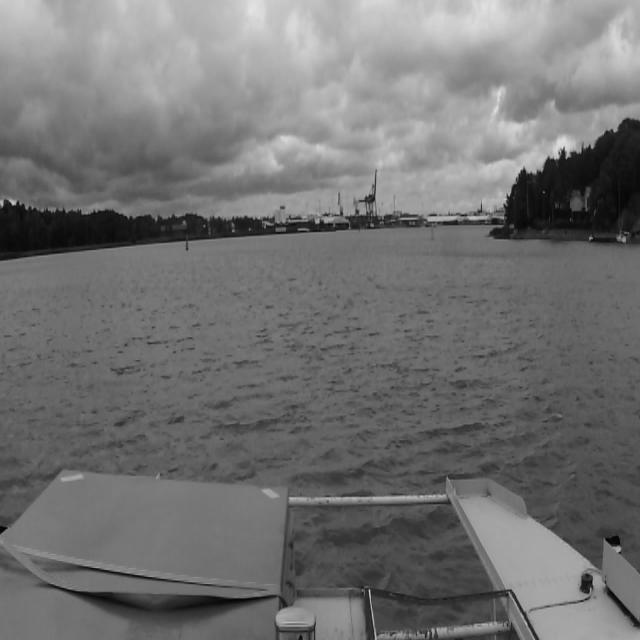buoy: (430, 221, 437, 247), (184, 236, 190, 258)
